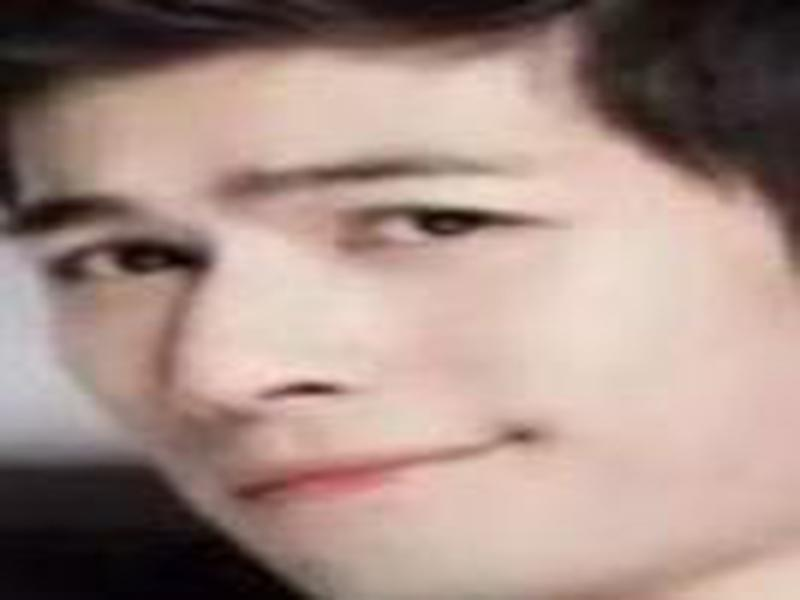without_mask: (14, 65, 719, 600)
